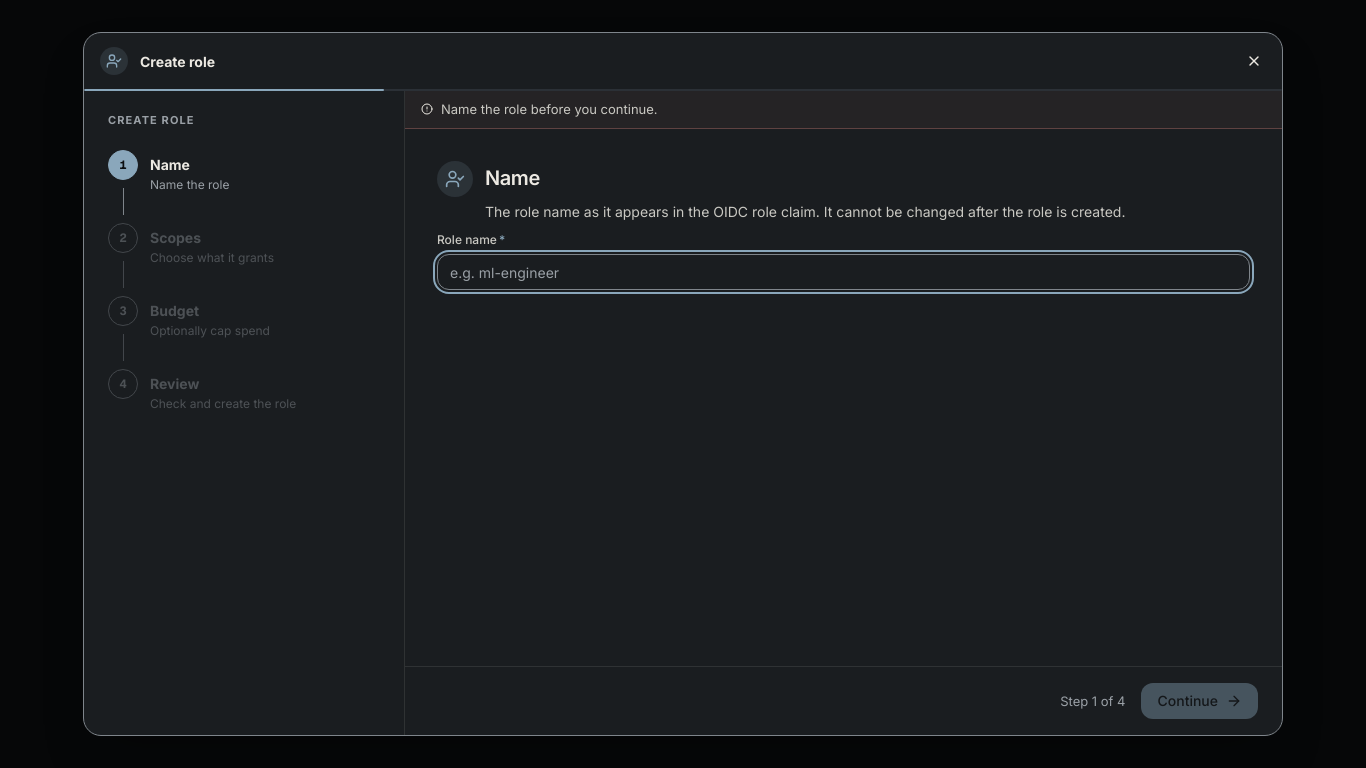
CreateRoleWizard › shows the action refusal when the name was taken after the list loaded
Type "ml-engineer" into the field labelled "Role name*".
click(844, 272); type("ml-engineer")  # box [437, 254, 1250, 290]
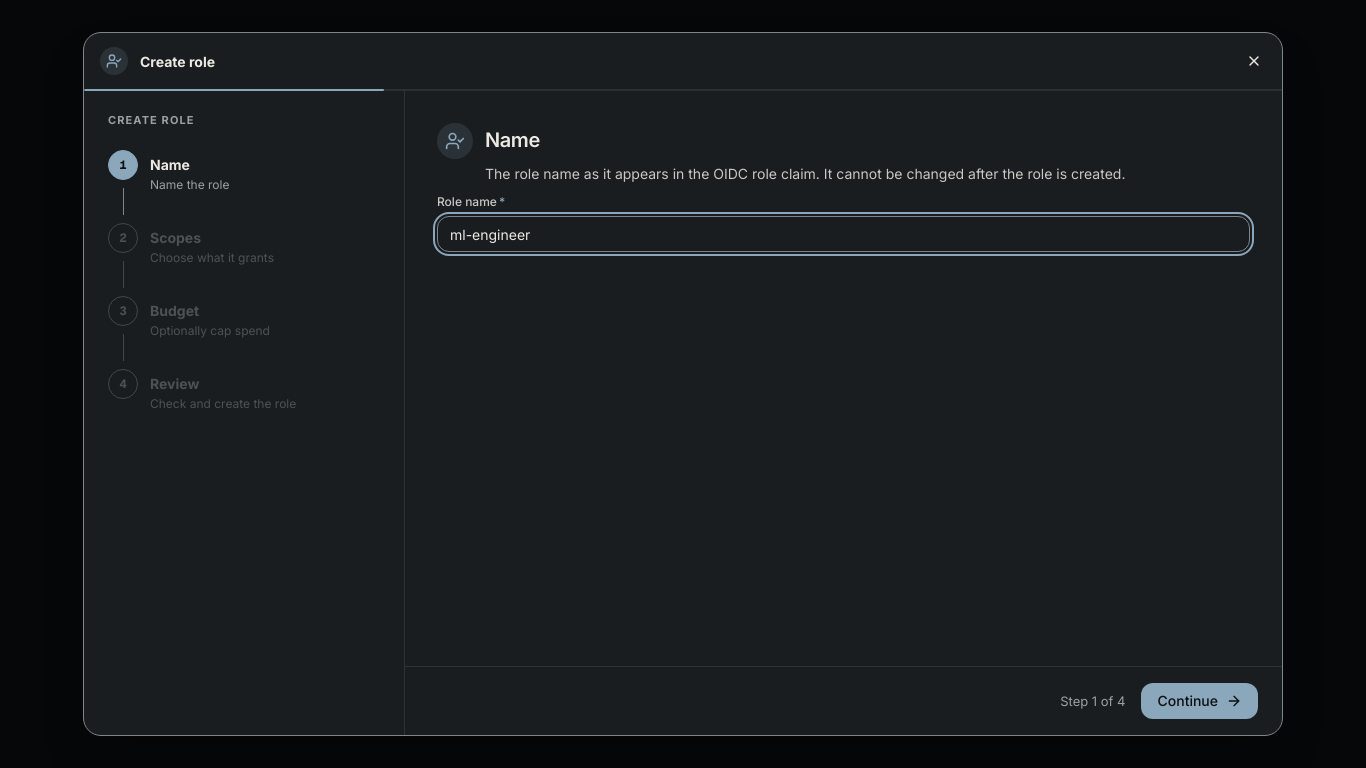
Click the button "Continue".
click(1200, 701)  # box [1142, 683, 1258, 719]
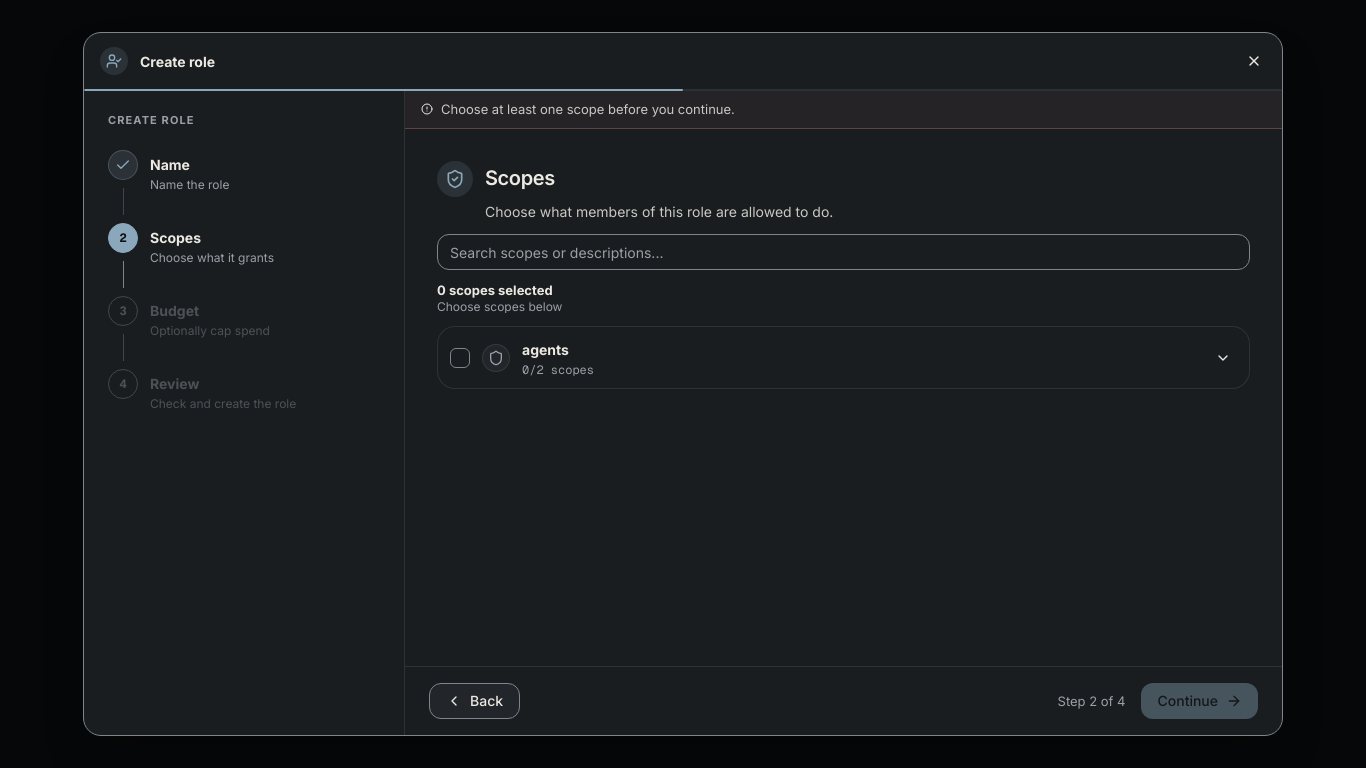
Click the checkbox.
click(460, 358)  # box [450, 348, 470, 368]
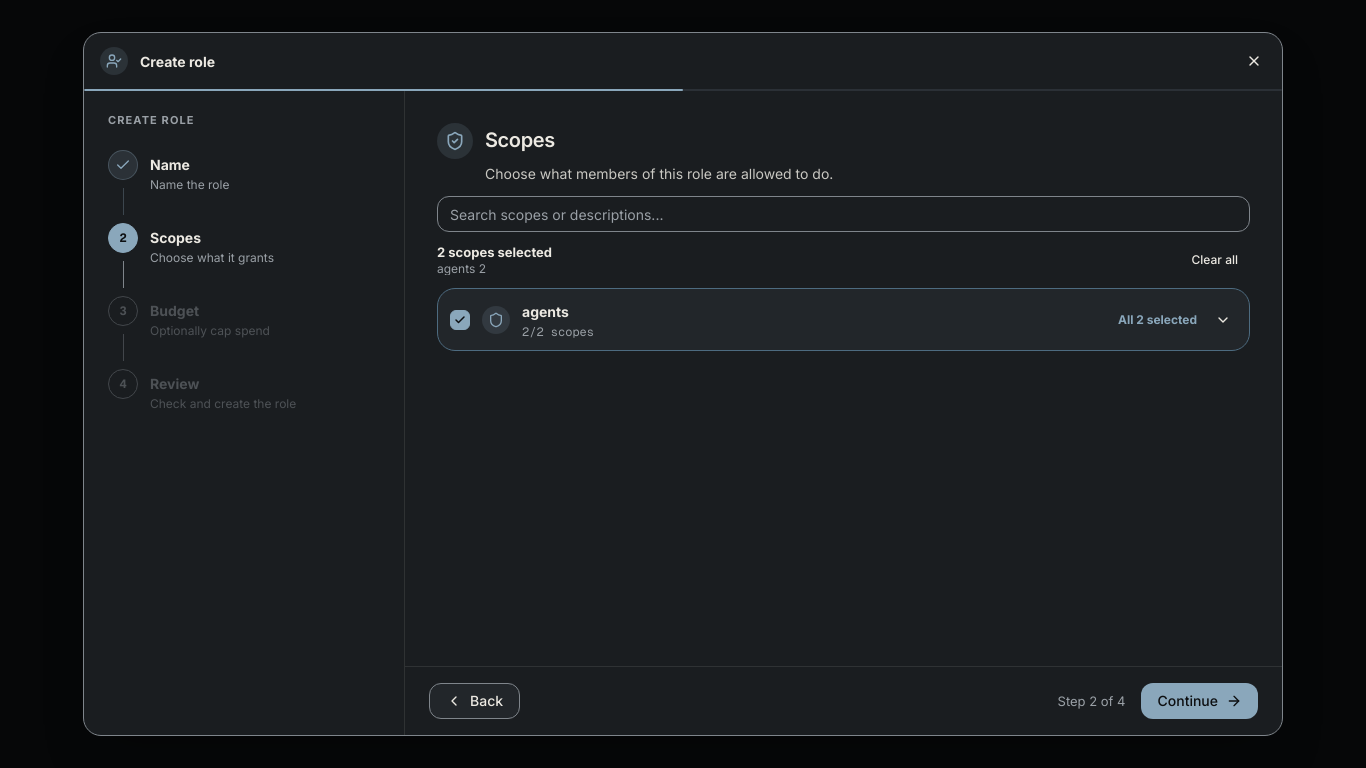
Click the button "Continue".
click(1200, 701)  # box [1142, 683, 1258, 719]
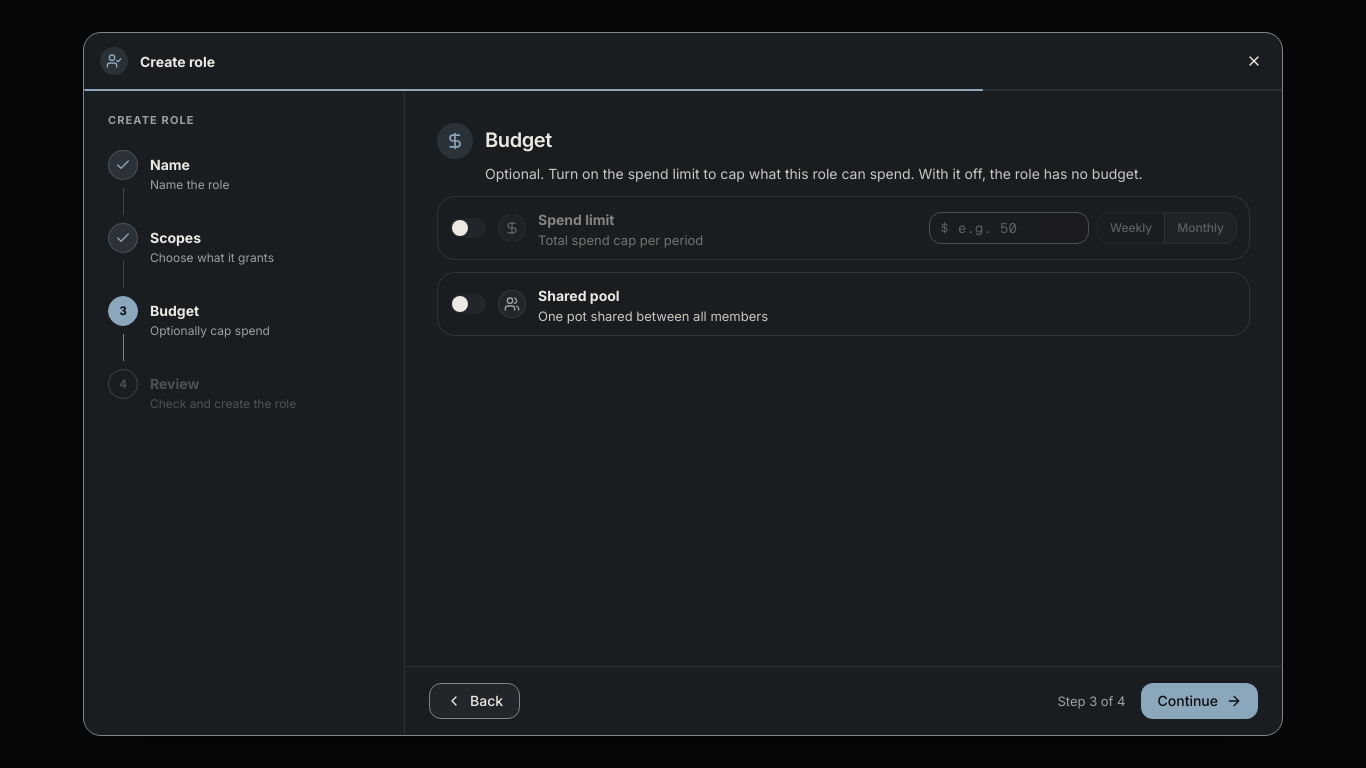
Click the button "Continue".
click(1200, 701)  # box [1142, 683, 1258, 719]
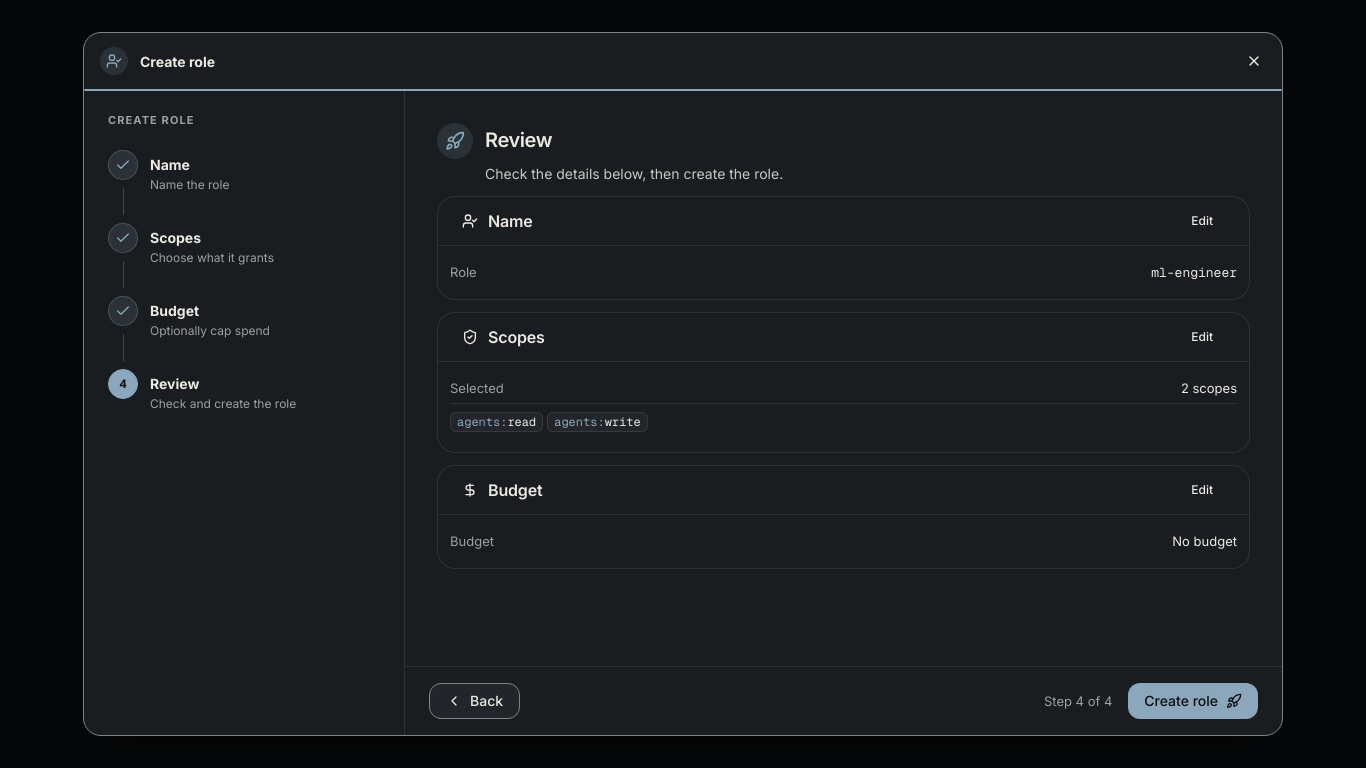
Click the button "Create role".
click(1193, 701)  # box [1128, 683, 1258, 719]
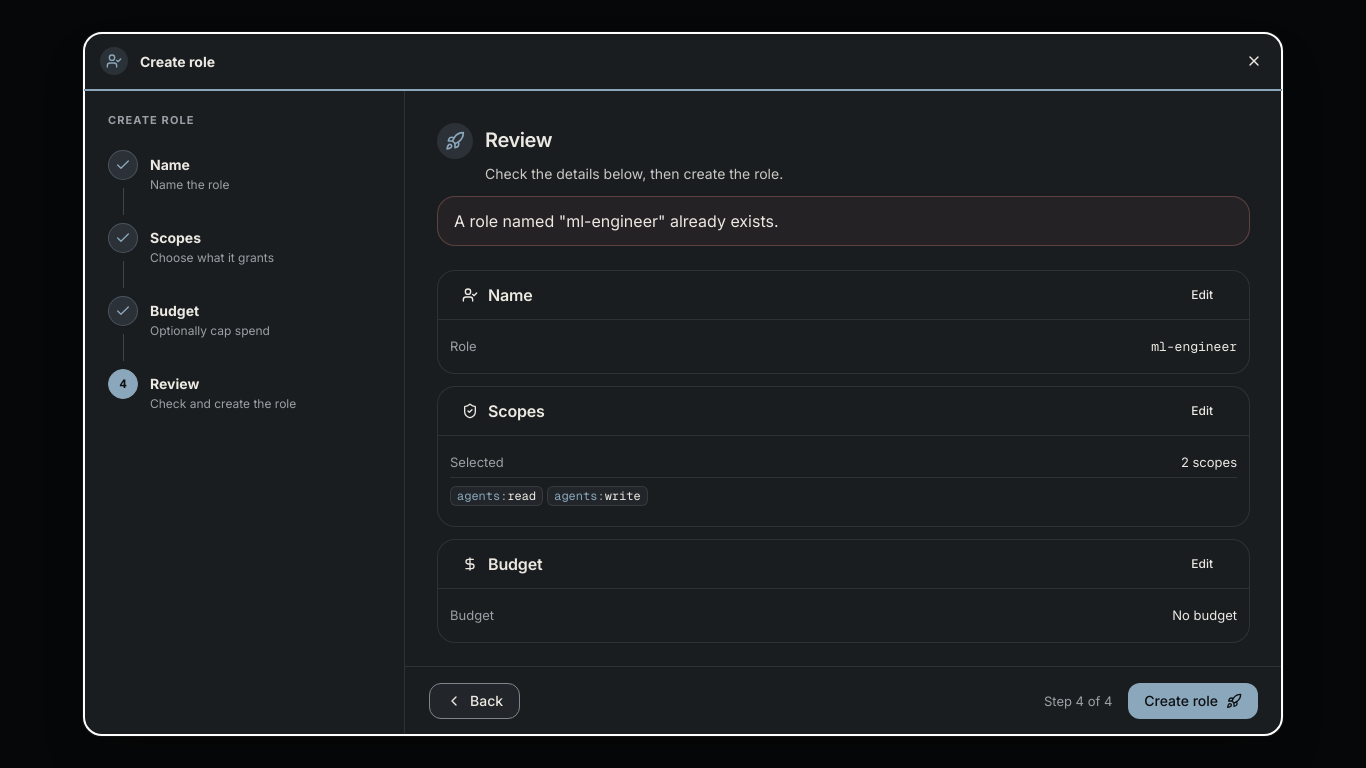
Now the text "A role named \"ml-engineer\" already exists." is shown, box [437, 196, 1250, 246]
